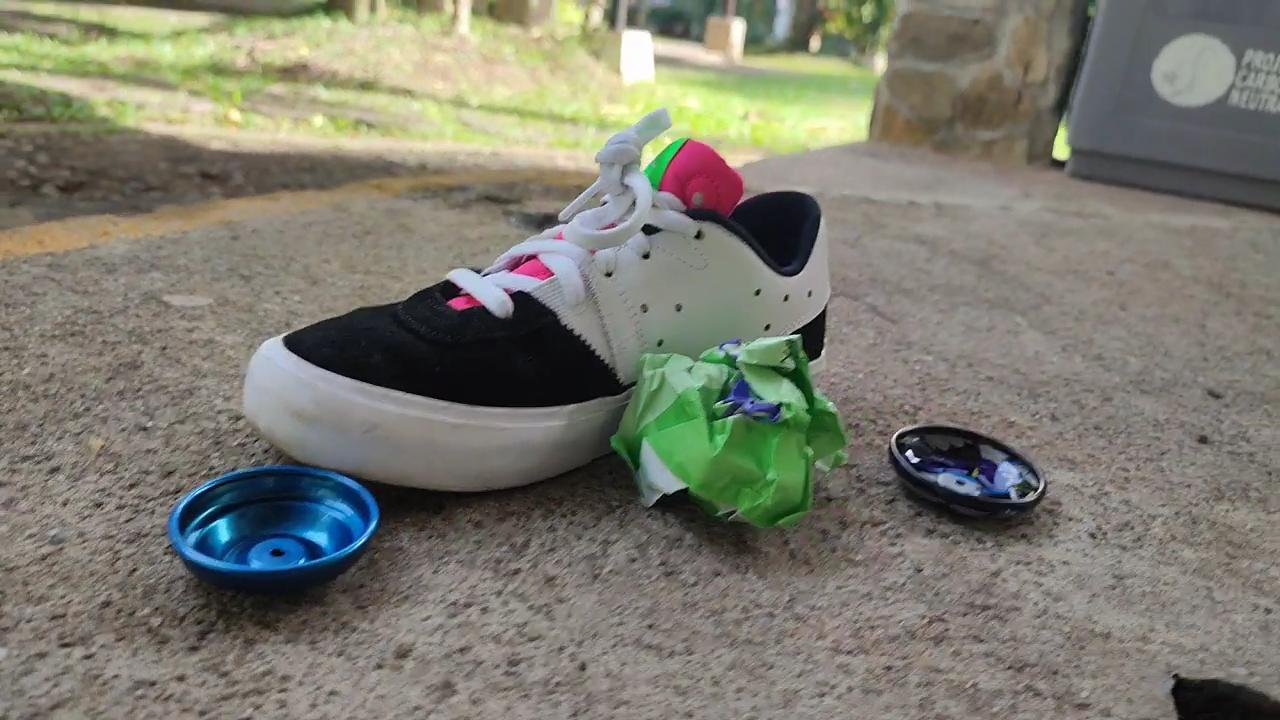Paper: (608, 308, 846, 546)
